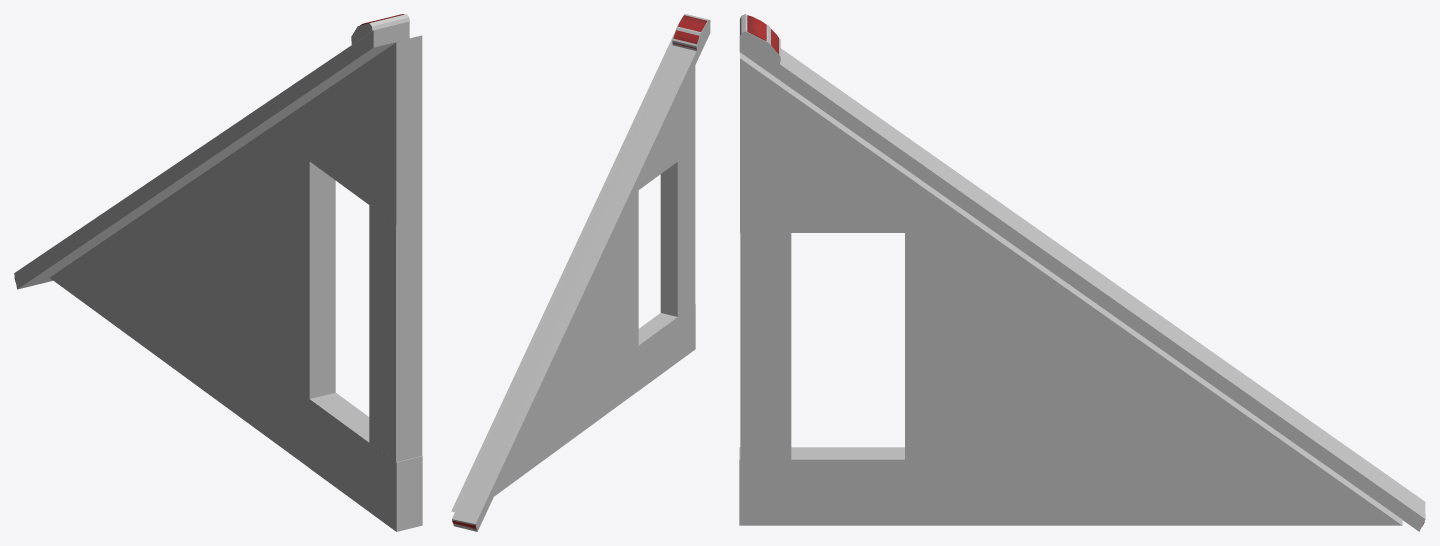
The model's file is SM_M01Roof01_2WindowTypeF.fbx.
The picture shows the model from 3 angles, left to right: view 1: azimuth 30°, elevation 25°; view 2: azimuth 150°, elevation 25°; view 3: azimuth 270°, elevation 25°; orthographic projection. The views are drawn at different scales.
Parts seen in each view (by area): view 1: SM_M01Roof01_2WindowTypeF_ConvexHulls; view 2: SM_M01Roof01_2WindowTypeF_ConvexHulls, SM_M01Roof01_2WindowTypeF; view 3: SM_M01Roof01_2WindowTypeF_ConvexHulls.
Part boxes in pixels (left/top/right/bottom): SM_M01Roof01_2WindowTypeF_ConvexHulls: left=14, top=14, right=422, bottom=531; SM_M01Roof01_2WindowTypeF_ConvexHulls: left=451, top=14, right=710, bottom=531; SM_M01Roof01_2WindowTypeF: left=452, top=15, right=707, bottom=529; SM_M01Roof01_2WindowTypeF_ConvexHulls: left=739, top=14, right=1425, bottom=531.
Size of the model in its own units: 38.22 by 478 by 385.
Materials: 4 (3 with a texture image).
